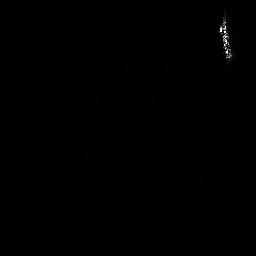ship: (216, 14, 234, 61)
